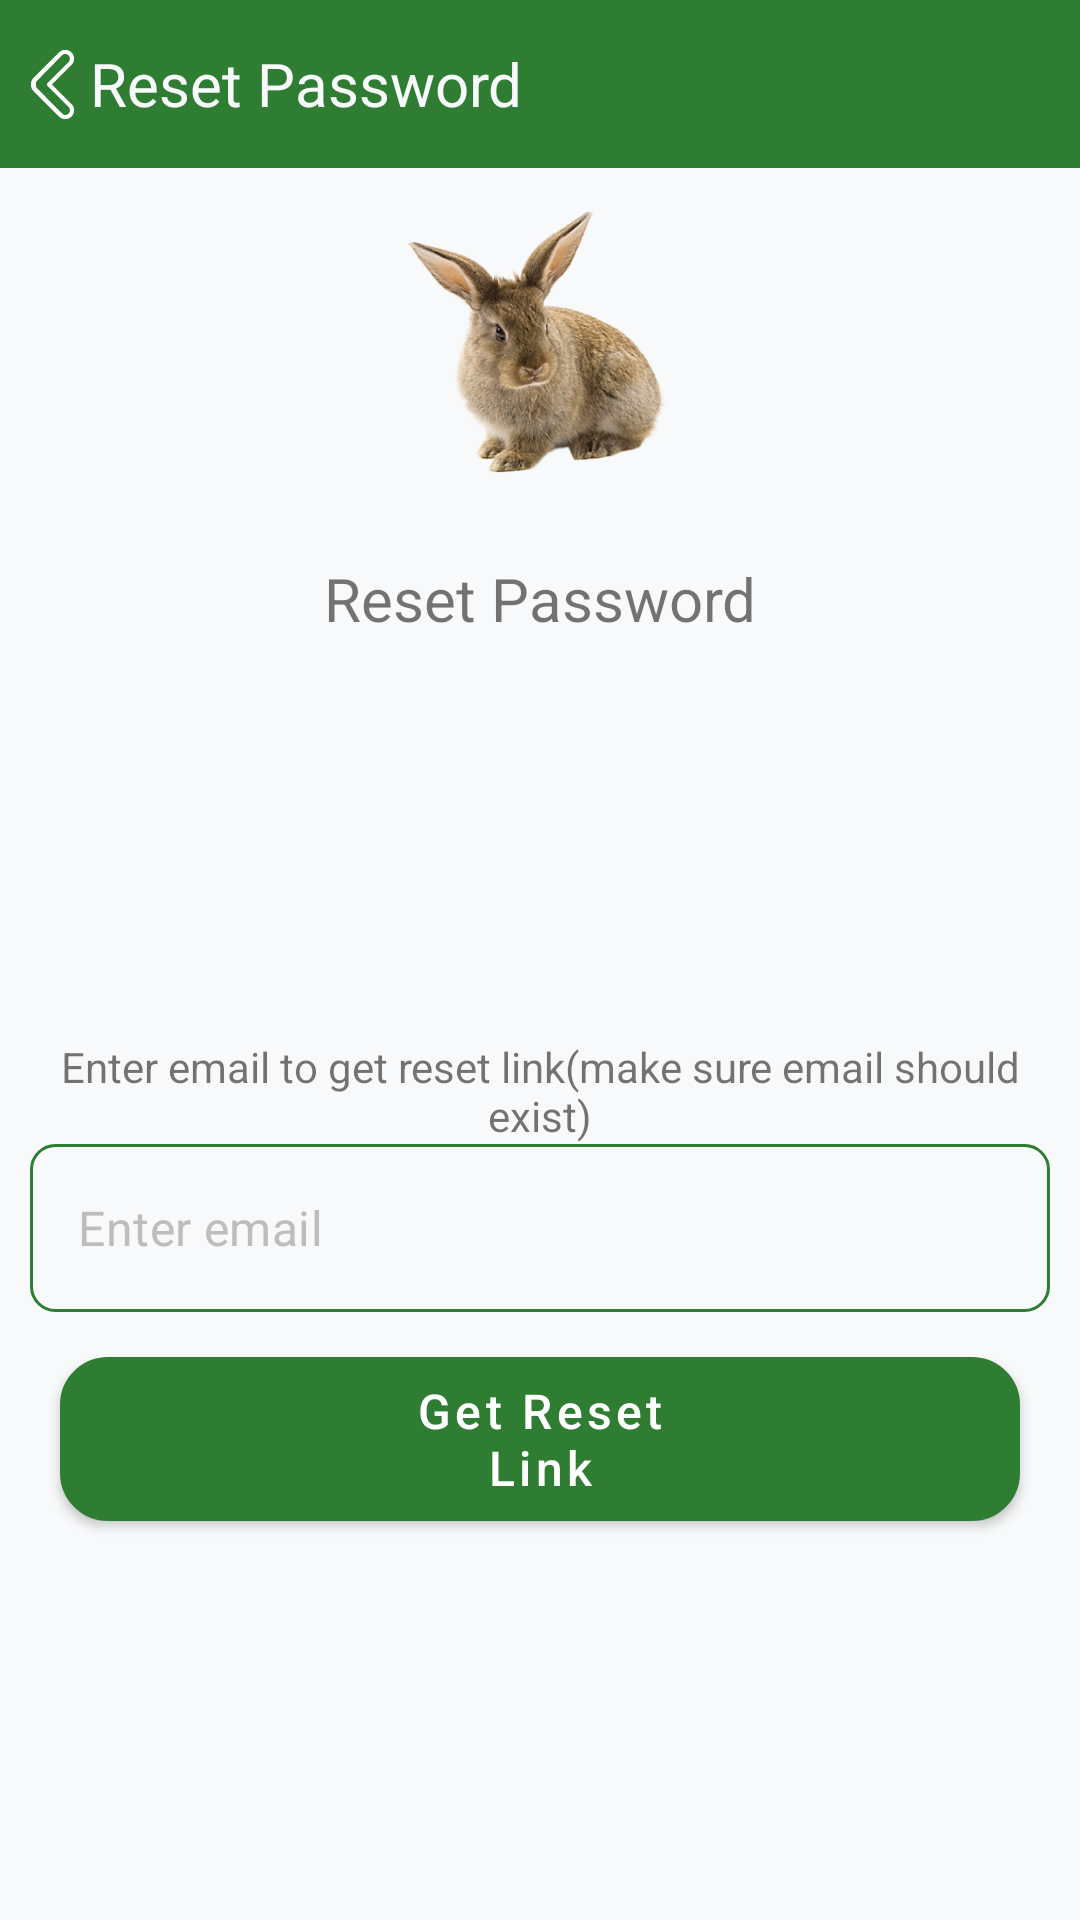

Where icons sit on this 1080x1920 app screen, as [x1,y1,x2,y2]:
back arrow: [31,49,74,119]
